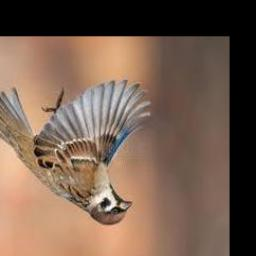Sparrow: (0, 80, 150, 225)
